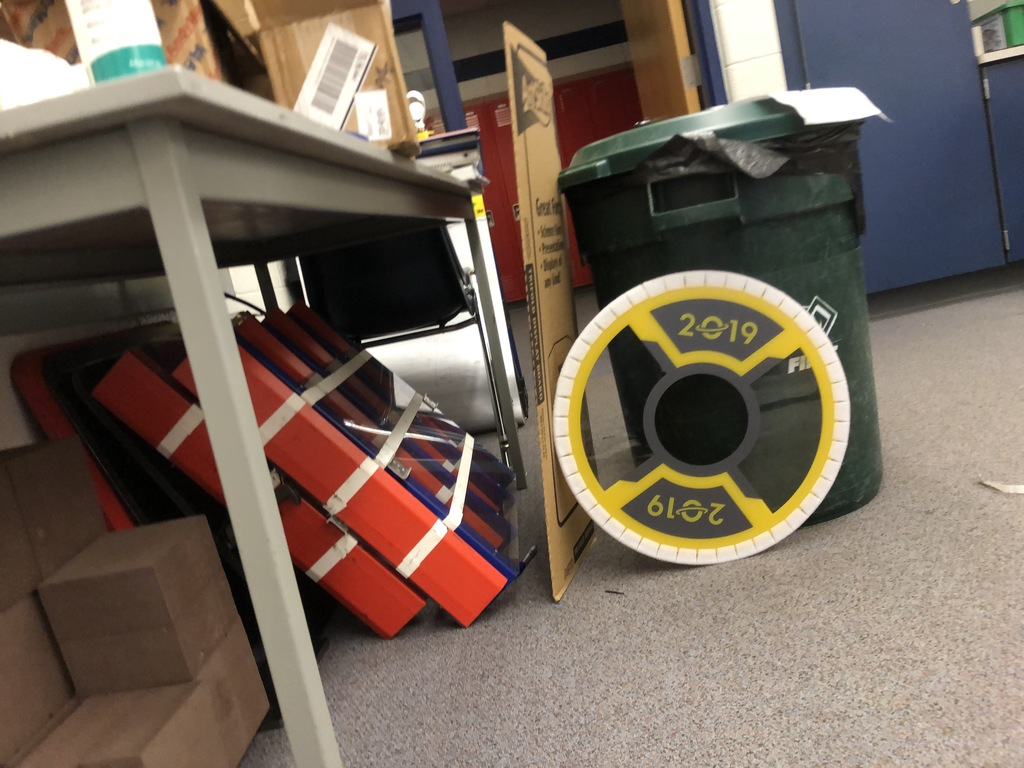hatch_panel: (550, 262, 858, 589)
